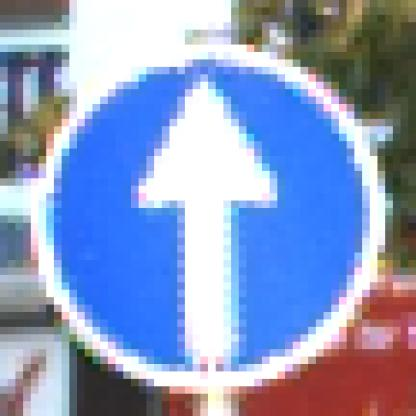AheadOnly: (40, 45, 379, 380)
